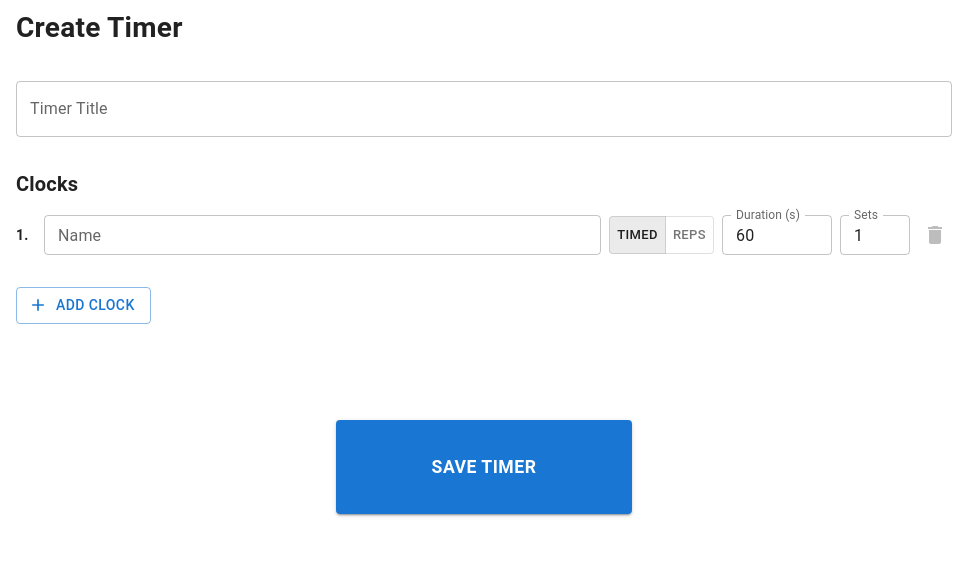
Test case: CreateTimer › shows error when saving without a title
The image size is (969, 565).
Click the button "Save Timer": coordinates (484, 467) [336,420,632,514]
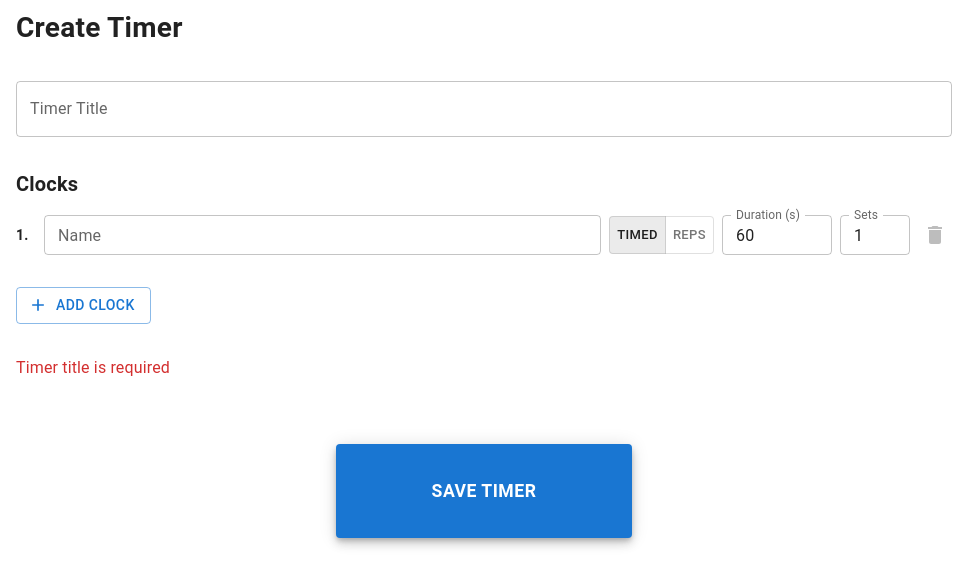
Expected: the text "Timer title is required" is shown, [16,358,170,376]
